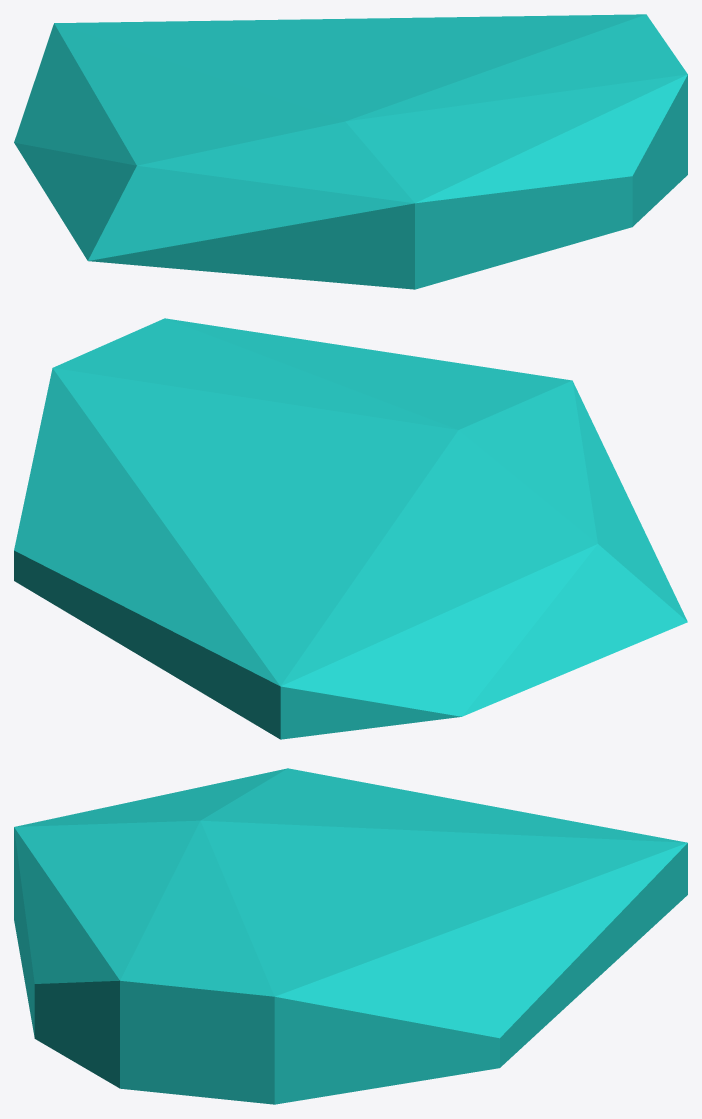
The model's file is Flat_02_Collider_01.FBX.
The picture shows the model from 3 angles, top to bottom: view 1: azimuth 30°, elevation 25°; view 2: azimuth 150°, elevation 25°; view 3: azimuth 270°, elevation 25°; orthographic projection. The views are drawn at different scales.
Parts seen in each view (by area): view 1: COLLIDER1; view 2: COLLIDER1; view 3: COLLIDER1.
Part boxes in pixels (bbox=[...]): COLLIDER1: bbox=[14, 14, 687, 289]; COLLIDER1: bbox=[14, 318, 687, 739]; COLLIDER1: bbox=[14, 768, 687, 1104].
Bounding box in the file's own units: 143 × 24.21 × 137.
